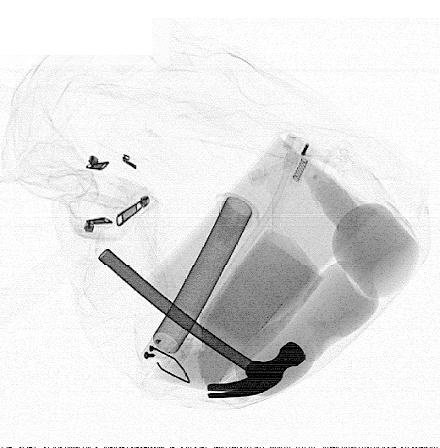Hammer: (98, 248, 306, 399)
